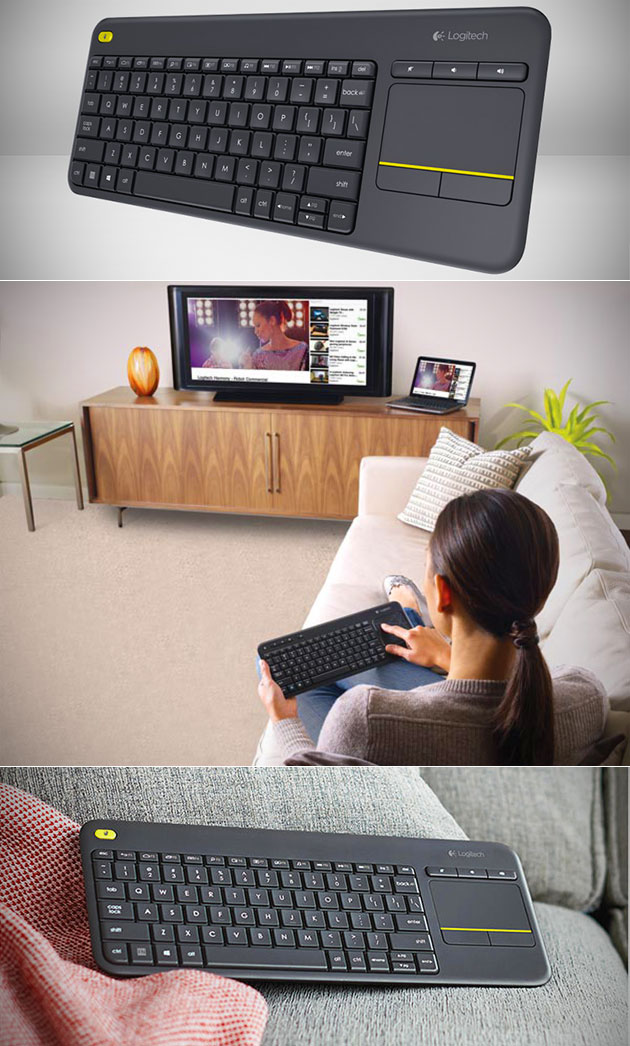logitech-keyboard-k400: (53, 5, 564, 265), (83, 830, 537, 984)
